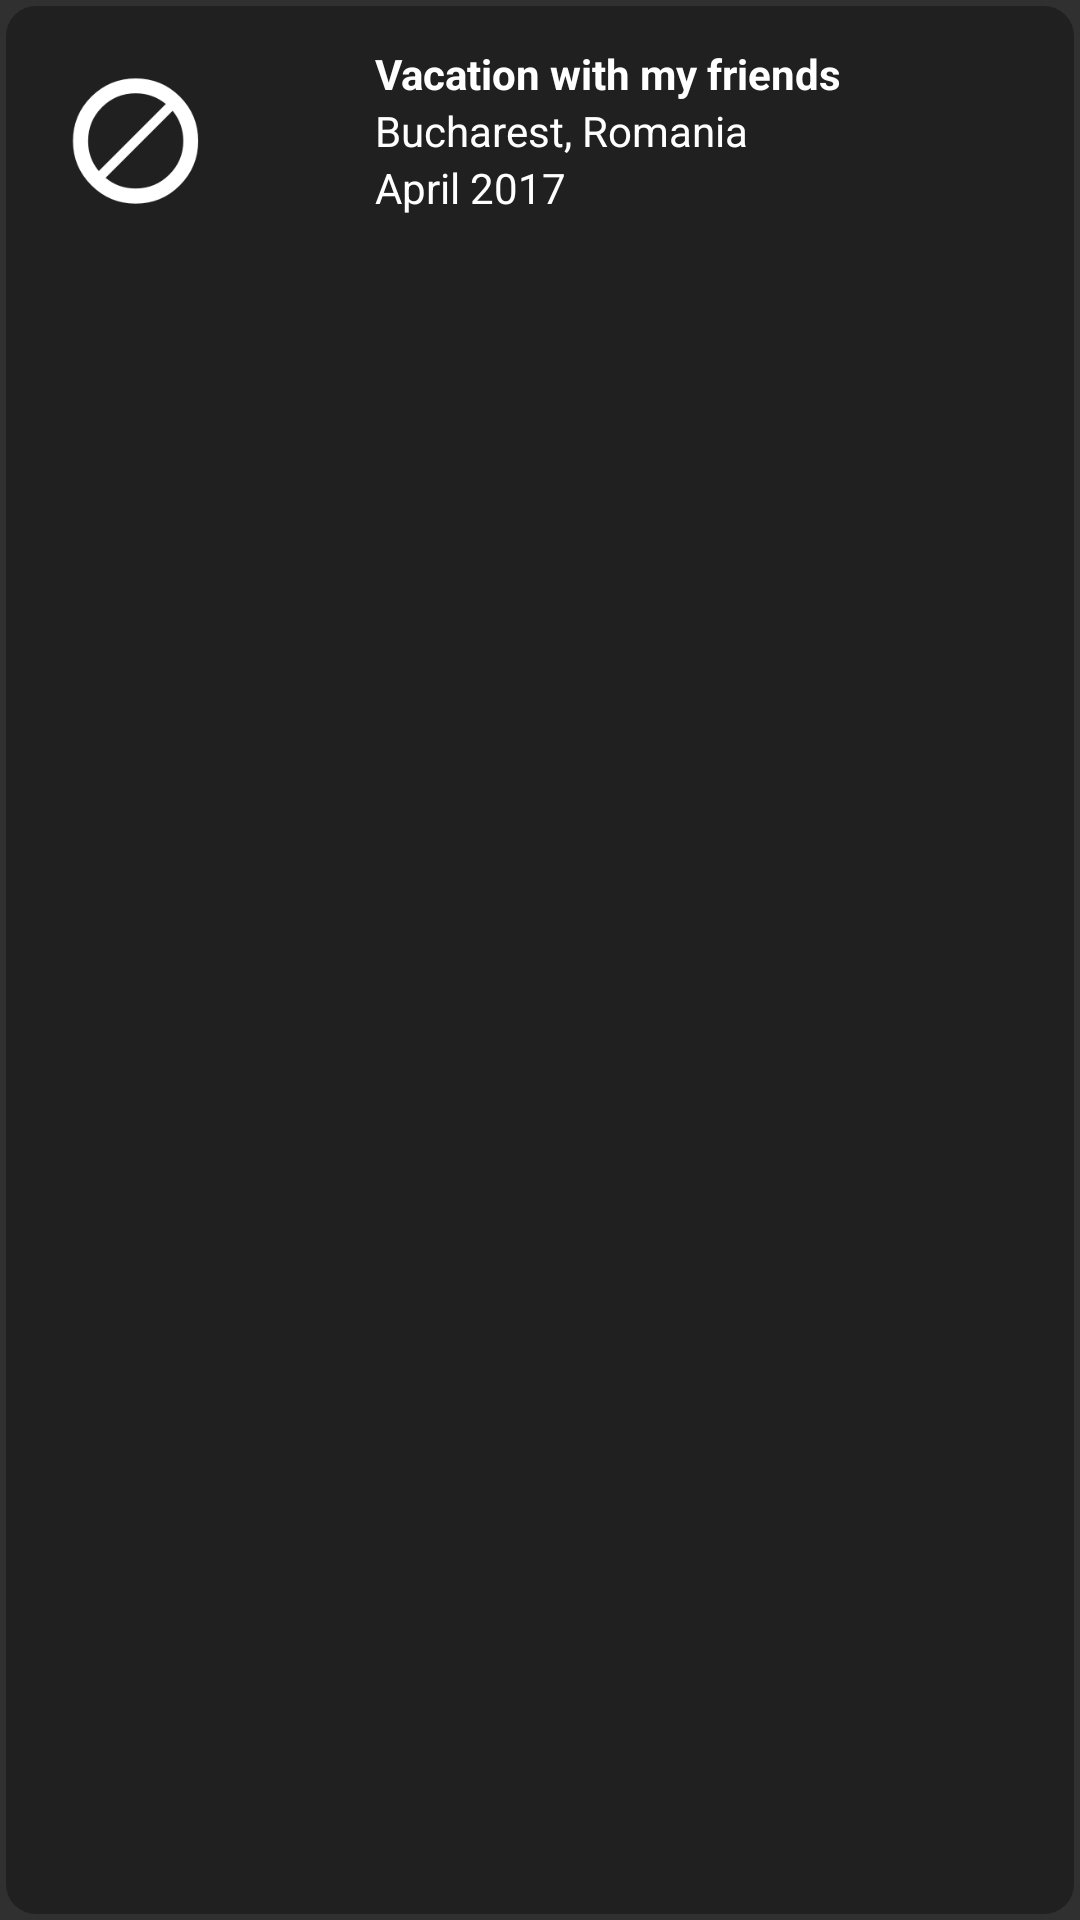

Icon click points for this 1080 x 1920 phone screenshot, format point (x, y):
no photo: point (135, 141)
